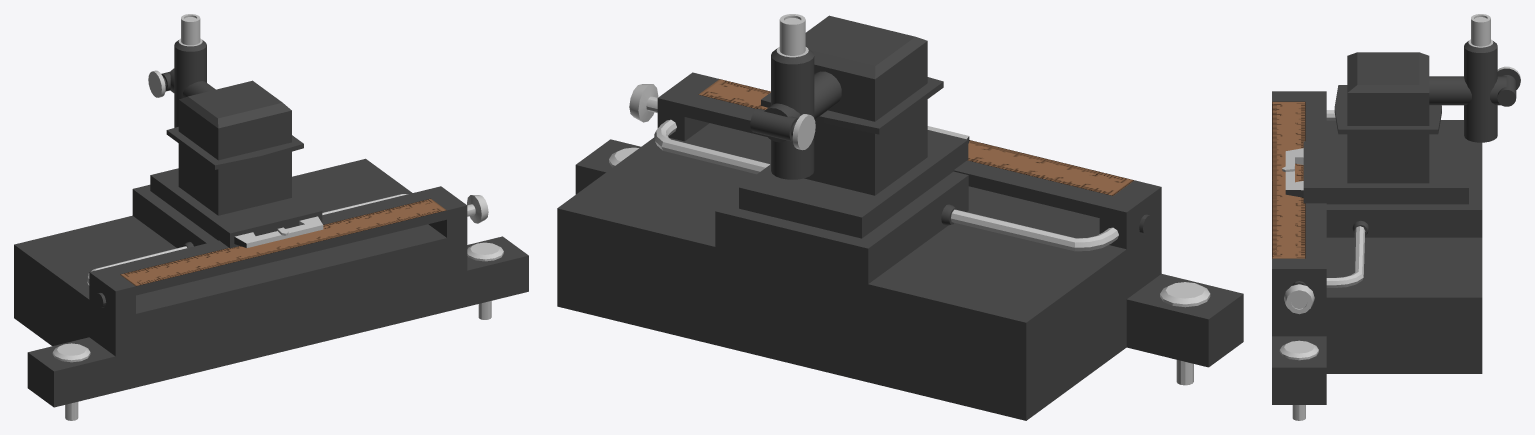
Rendered from microscope.fbx.
The picture shows the model from 3 angles, left to right: view 1: azimuth 30°, elevation 25°; view 2: azimuth 150°, elevation 25°; view 3: azimuth 270°, elevation 25°; orthographic projection. The views are drawn at different scales.
Visible parts, largest first — view 1: bench, ruler-point, scope, side-knob, Cylinder; view 2: bench, ruler-point, scope, Cylinder, side-knob; view 3: bench, ruler-point, scope, side-knob, Cylinder.
Part boxes in pixels (x1,y1,x2,y2): bench: (14,158,528,420); ruler-point: (132,80,323,248); scope: (169,14,215,127); side-knob: (467,195,488,223); Cylinder: (148,70,170,97); bench: (557,72,1243,420); ruler-point: (715,15,969,283); scope: (764,14,841,179); Cylinder: (750,108,815,150); side-knob: (629,84,658,122); bench: (1272,91,1482,420); ruler-point: (1282,52,1482,237); scope: (1429,14,1506,142); side-knob: (1284,284,1314,314); Cylinder: (1497,66,1520,106).
Size of the model in its own units: 540 by 310 by 237.
